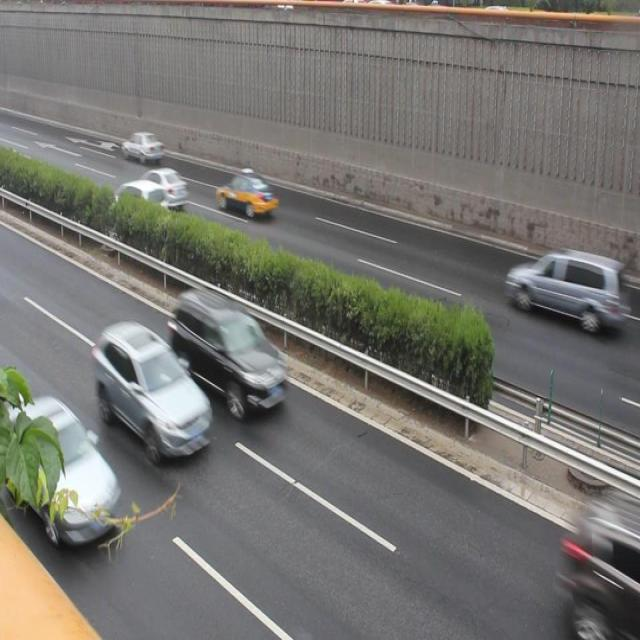car: (92, 324, 212, 461), (9, 393, 118, 543), (170, 287, 286, 417), (214, 170, 276, 220), (108, 178, 167, 226), (136, 165, 187, 207), (122, 130, 164, 164)
truck: (507, 245, 622, 338)
